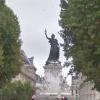Statue: (34, 22, 68, 78)
